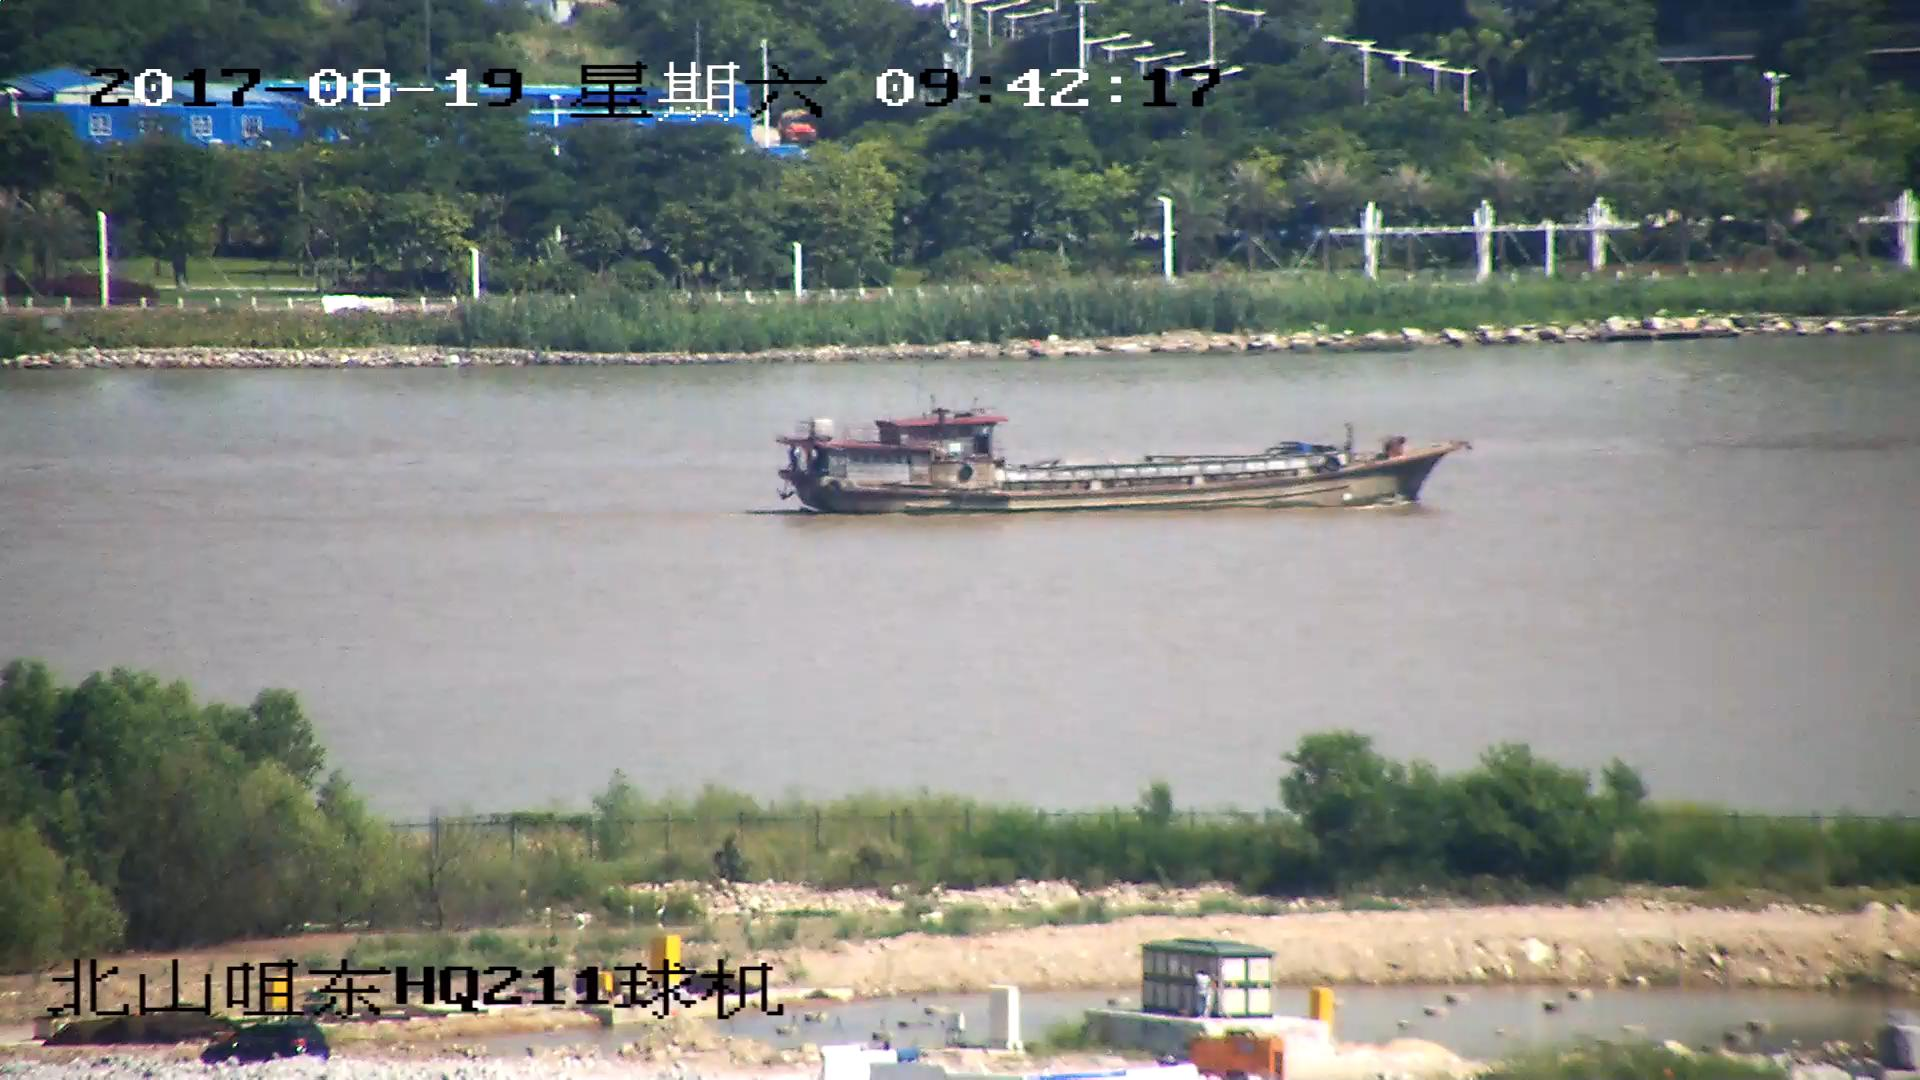fishing boat: (777, 410, 1475, 514)
